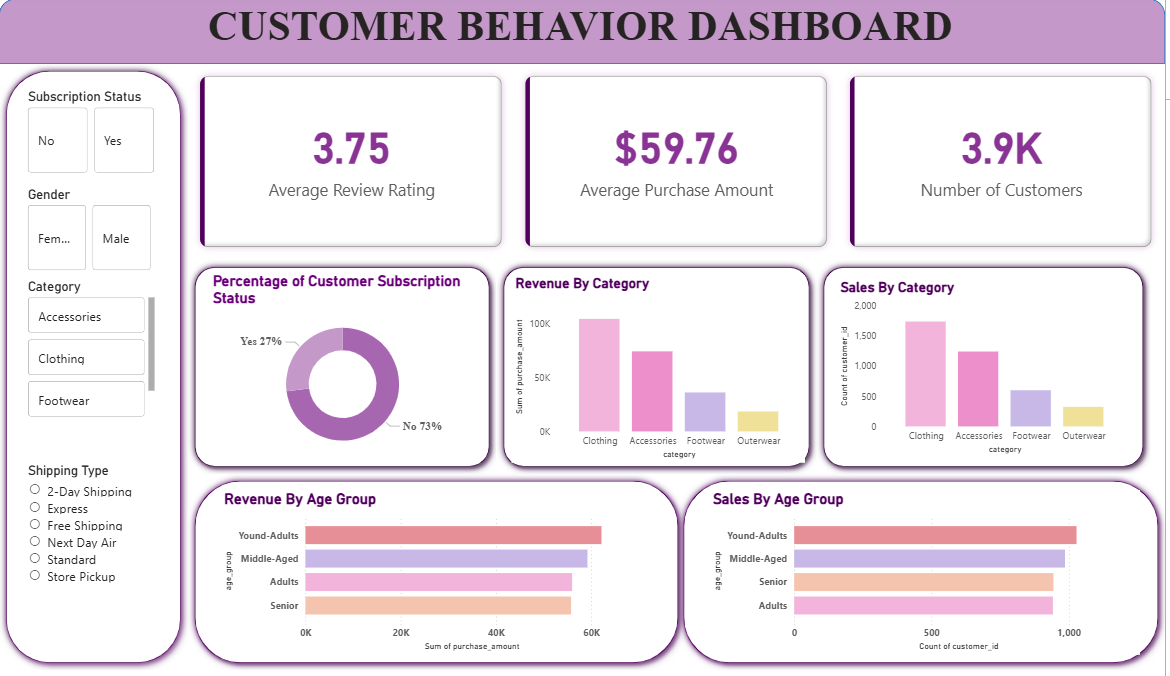

The dashboard page shown, as its layout file describes it:
{"tool":"powerbi","page":{"name":"Page 1","canvas":[1500,880],"ordinal":0},"visuals":[{"type":"cardVisual","fields":{"Data":["public customer.Average Review Rating","public customer.Average Purchase Amount","public customer.Number of Customers"]},"box":[242.8,88.4,1257.5,252.5],"z":0},{"type":"shape","box":[0,4.8,1500.3,83.6],"z":1000},{"type":"textbox","box":[263.7,4.8,974.5,83.6],"z":2000},{"type":"shape","box":[242.8,340.9,397.2,275],"z":3000},{"type":"donutChart","title":"Percentage of Customer Subscription Status","fields":{"Category":["public customer.subscription_status"],"Y":["CountNonNull(public customer.customer_id)"]},"box":[270.2,357,344.1,244.4],"z":4000},{"type":"shape","box":[640,340.9,411.7,275],"z":5000},{"type":"shape","box":[1051.7,340.9,429.4,275],"z":6000},{"type":"clusteredColumnChart","title":"Revenue By Category","fields":{"Y":["Sum(public customer.purchase_amount)"],"Category":["public customer.category"]},"box":[659.3,360.2,377.9,241.2],"z":7000},{"type":"clusteredColumnChart","title":"Sales By Category","fields":{"Category":["public customer.category"],"Y":["CountNonNull(public customer.customer_id)"]},"box":[1077.4,365,377.9,230],"z":8000},{"type":"shape","box":[0,88.4,242.8,779.9],"z":9000},{"type":"advancedSlicerVisual","title":"Subscription Status","fields":{"Values":["public customer.subscription_status"]},"box":[32.2,120.6,173.7,114.2],"z":10000},{"type":"advancedSlicerVisual","title":"Gender","fields":{"Values":["public customer.gender"]},"box":[32.2,246,168.8,114.2],"z":11000},{"type":"advancedSlicerVisual","title":"Category","fields":{"Values":["public customer.category"]},"box":[32.2,365,173.7,184.9],"z":12000},{"type":"listSlicer","title":"Shipping Type","fields":{"Values":["public customer.shipping_type"]},"box":[32.2,601.4,173.7,204.2],"z":13000},{"type":"shape","box":[242.8,615.9,640,252.5],"z":15000},{"type":"shape","box":[871.6,615.9,628.8,252.5],"z":16000},{"type":"barChart","title":"Sales By Age Group","fields":{"Category":["public customer.age_group"],"Y":["CountNonNull(public customer.customer_id)"]},"box":[913.4,636.8,554.8,212.3],"z":17000},{"type":"barChart","title":"Revenue By Age Group","fields":{"Category":["public customer.age_group"],"Y":["Sum(public customer.purchase_amount)"]},"box":[284.6,636.8,554.8,212.3],"z":17001}]}

Visuals, with their boxes in screenshot pixels (x1, y1, x2, y2), scaled from the page's 1500x880 canvas onto the 1170x676 screenshot:
cardVisual - public customer.Average Review Rating x public customer.Average Purchase Amount: bbox=[189, 68, 1169, 262]
shape: bbox=[0, 4, 1169, 68]
textbox: bbox=[206, 4, 966, 68]
shape: bbox=[189, 262, 499, 473]
"Percentage of Customer Subscription Status" donutChart: bbox=[211, 274, 479, 462]
shape: bbox=[499, 262, 820, 473]
shape: bbox=[820, 262, 1155, 473]
"Revenue By Category" clusteredColumnChart: bbox=[514, 277, 809, 462]
"Sales By Category" clusteredColumnChart: bbox=[840, 280, 1135, 457]
shape: bbox=[0, 68, 189, 667]
"Subscription Status" advancedSlicerVisual: bbox=[25, 93, 161, 180]
"Gender" advancedSlicerVisual: bbox=[25, 189, 157, 277]
"Category" advancedSlicerVisual: bbox=[25, 280, 161, 422]
"Shipping Type" listSlicer: bbox=[25, 462, 161, 619]
shape: bbox=[189, 473, 689, 667]
shape: bbox=[680, 473, 1169, 667]
"Sales By Age Group" barChart: bbox=[712, 489, 1145, 652]
"Revenue By Age Group" barChart: bbox=[222, 489, 655, 652]
